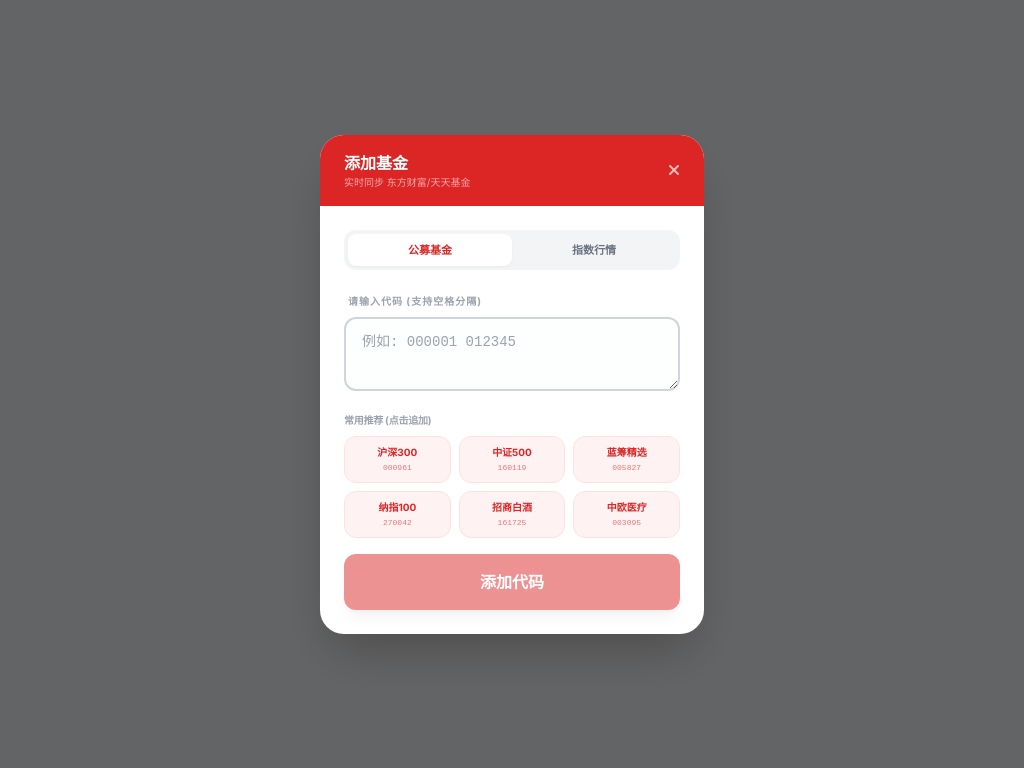
Scenario: AddTickerModal › switching tab updates placeholder and suggestions
The image size is (1024, 768).
# click '指数行情' tab
What coordinates should you click on to do the following:
click the button "指数行情"
I would click on:
 (594, 250)
Its box is [512,234,676,266].
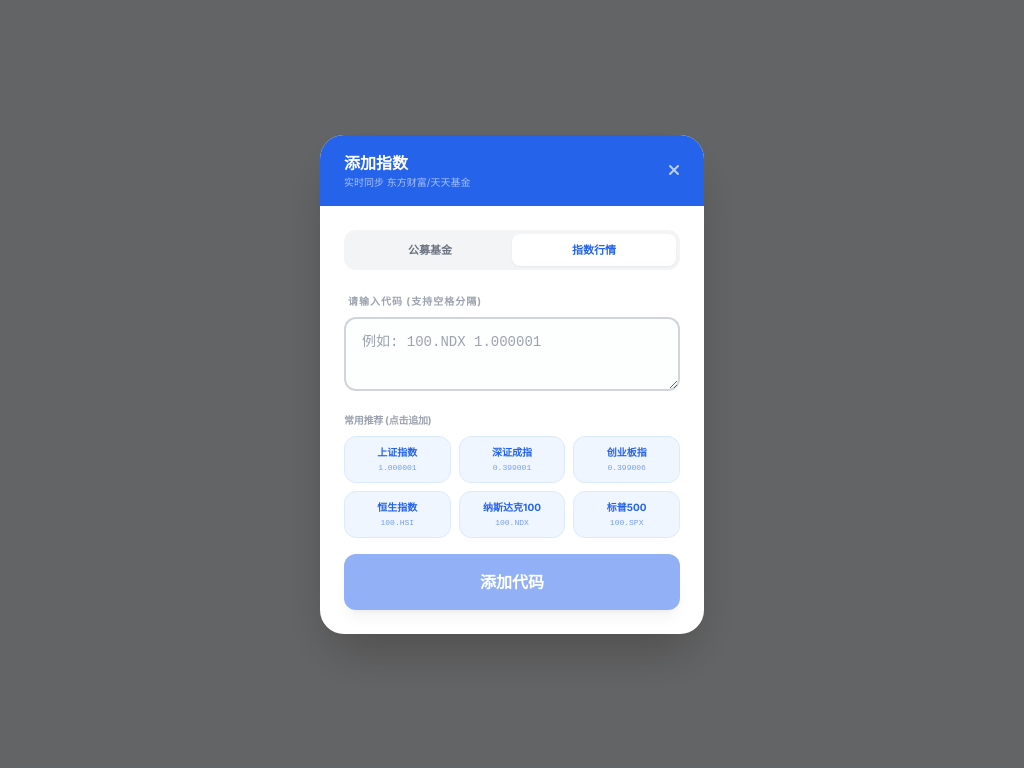
expect the text box with placeholder "例如: 100.NDX 1.000001" is shown: met, box [344,317,680,390]
